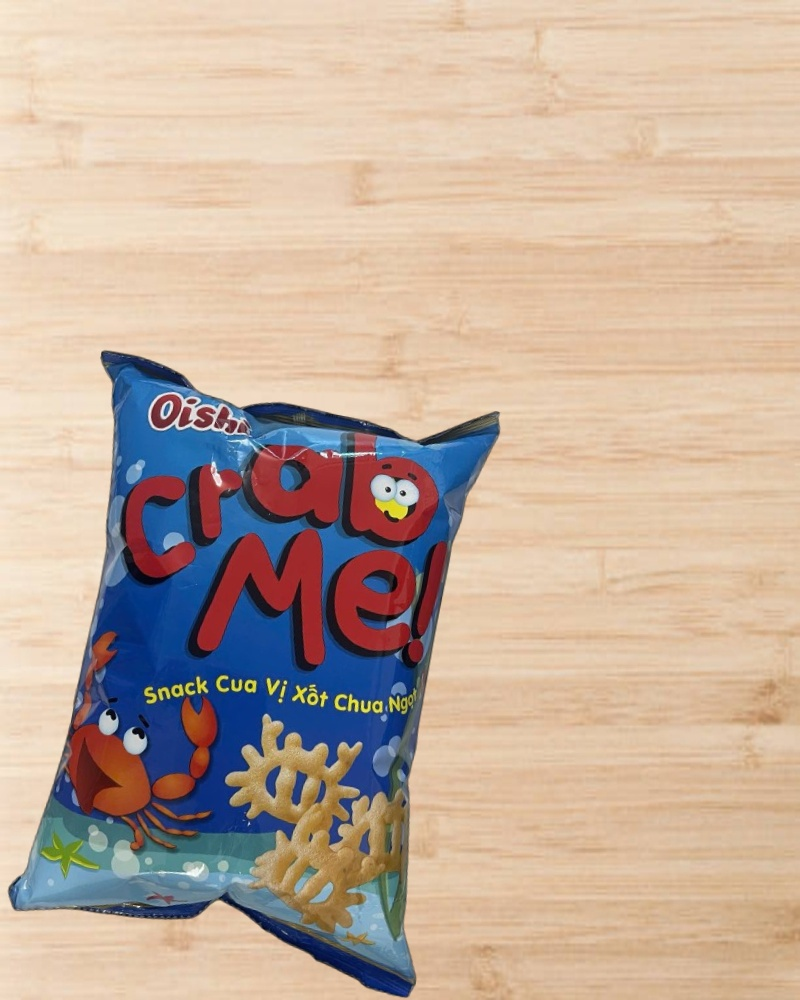Snack chay: (1, 343, 516, 1000)
